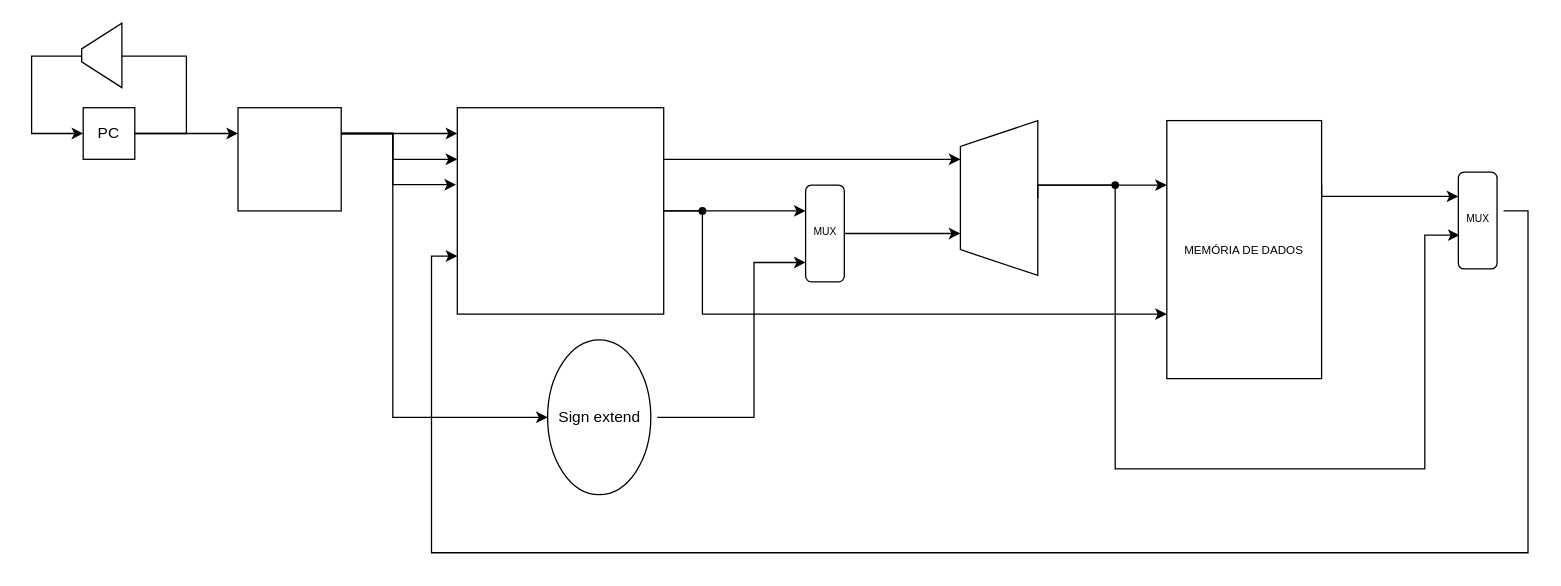
The diagram is 1561 pixels wide and 586 high, and some of its shapes have lost their labels. Each missing label, with the centre of its shape:
BANCO DE REGISTRADORES: the point at 560,210
MEMÓRIA DE INSTRUÇÕES: the point at 289,158
PC + 1: the point at 101,55
